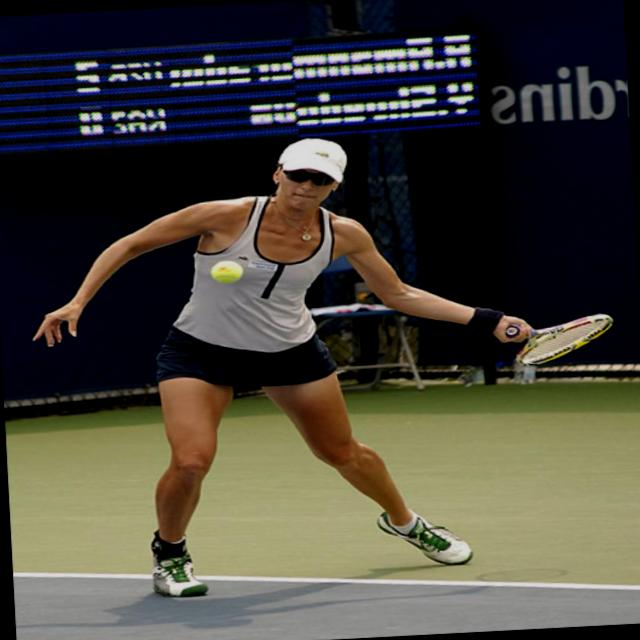Tennis Ball: (211, 257, 246, 283)
